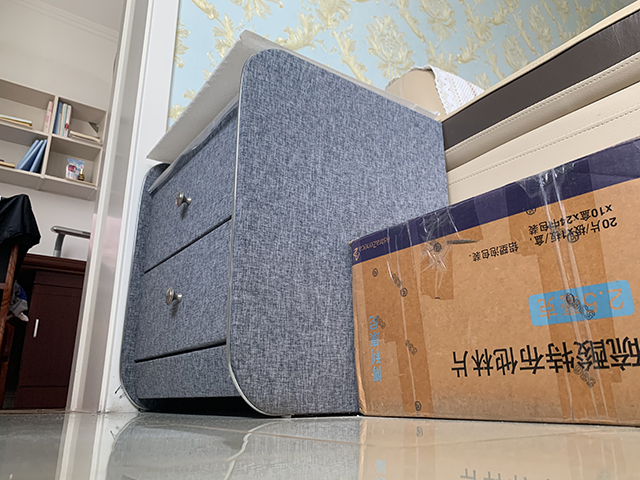cabinet: (117, 48, 450, 420), (1, 252, 88, 410)
